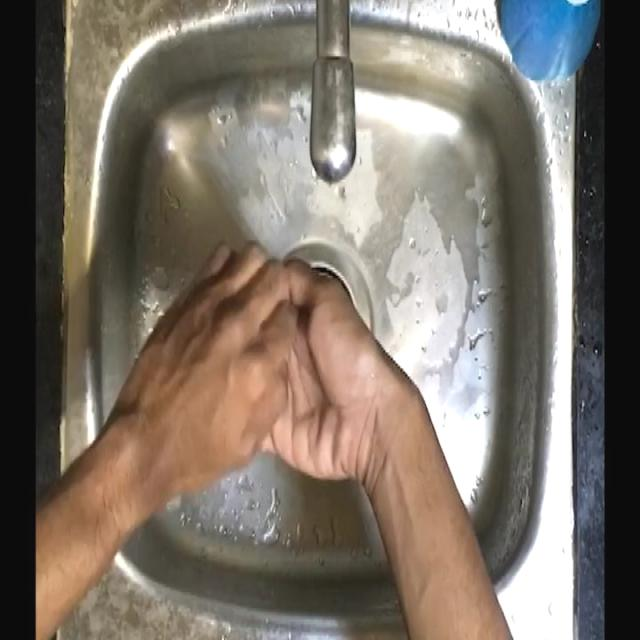step_4: (157, 242, 386, 488)
